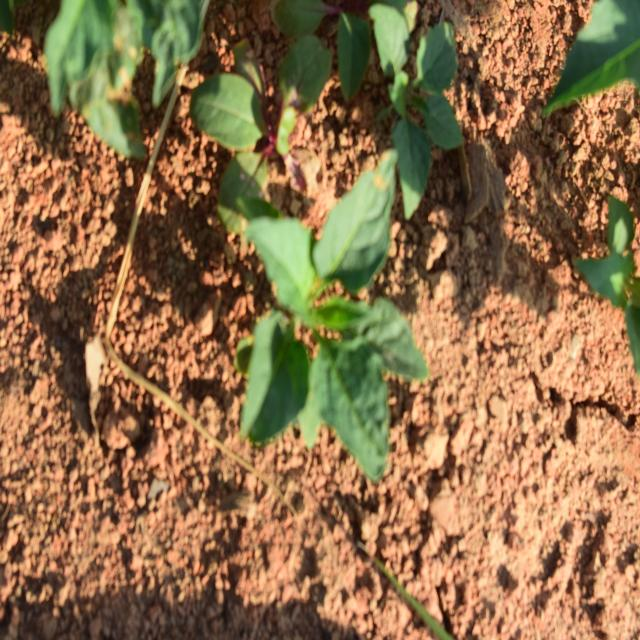Black_nightshade: (224, 169, 441, 481)
